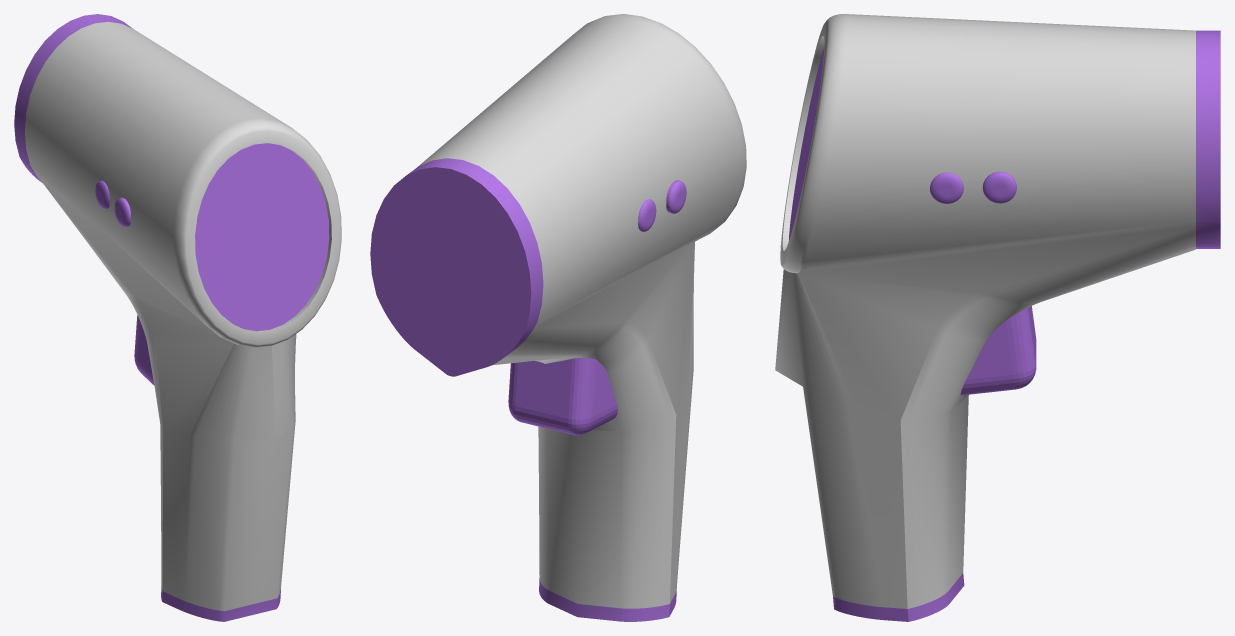
The model's file is Taionkei2.fbx.
3 renders of one model, left to right at view 1: azimuth 30°, elevation 25°; view 2: azimuth 150°, elevation 25°; view 3: azimuth 270°, elevation 25°, orthographic. The views are drawn at different scales.
Parts seen in each view (by area): view 1: 円柱, 立方体; view 2: 円柱, 立方体, 円柱.004; view 3: 円柱, 立方体, 円柱.001, 円柱.002.
Part boxes in pixels (x1,y1,x2,y2): 円柱: [14, 14, 341, 621]; 立方体: [134, 315, 154, 385]; 円柱: [370, 14, 746, 621]; 立方体: [508, 358, 617, 435]; 円柱.004: [666, 180, 686, 213]; 円柱: [775, 14, 1220, 621]; 立方体: [960, 306, 1036, 395]; 円柱.001: [982, 171, 1016, 203]; 円柱.002: [930, 172, 963, 203].
Size of the model in its own units: 1.89 by 5.41 by 3.82.
